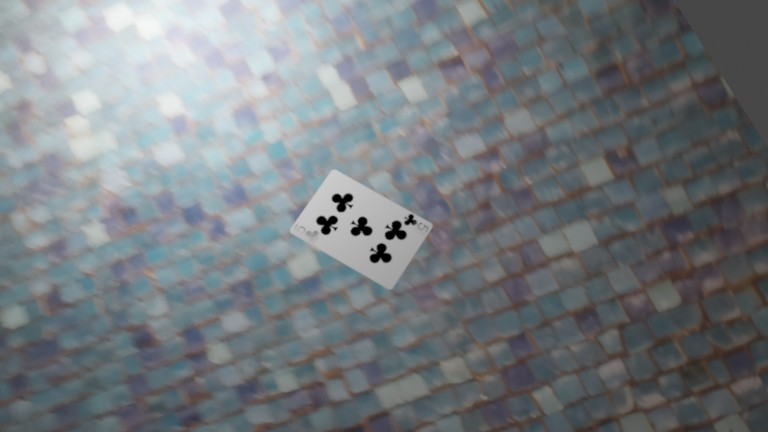5_of_clubs: (400, 211, 432, 236), (291, 220, 323, 245)
